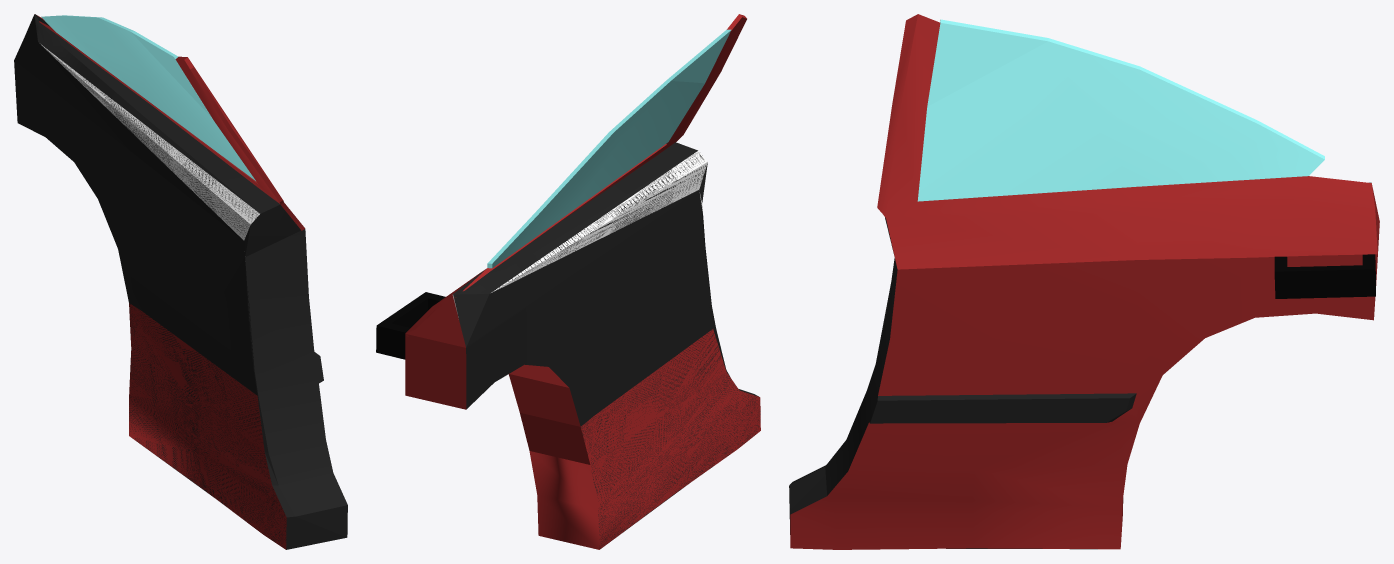
File: CarDoorBL.dae
The picture shows the model from 3 angles, left to right: view 1: azimuth 30°, elevation 25°; view 2: azimuth 150°, elevation 25°; view 3: azimuth 270°, elevation 25°; orthographic projection. The views are drawn at different scales.
Parts seen in each view (by area): view 1: group_0 (×5); view 2: group_0 (×6), doornob; view 3: group_0 (×4), doornob.
Part boxes in pixels (x1=…): group_0 (×5): x1=14, y1=14, x2=347, y2=549; group_0 (×6): x1=405, y1=14, x2=760, y2=549; doornob: x1=376, y1=292, x2=445, y2=359; group_0 (×4): x1=789, y1=14, x2=1379, y2=549; doornob: x1=1274, y1=254, x2=1375, y2=298.
Size of the model in its own units: 13.14 by 46.16 by 41.84.
